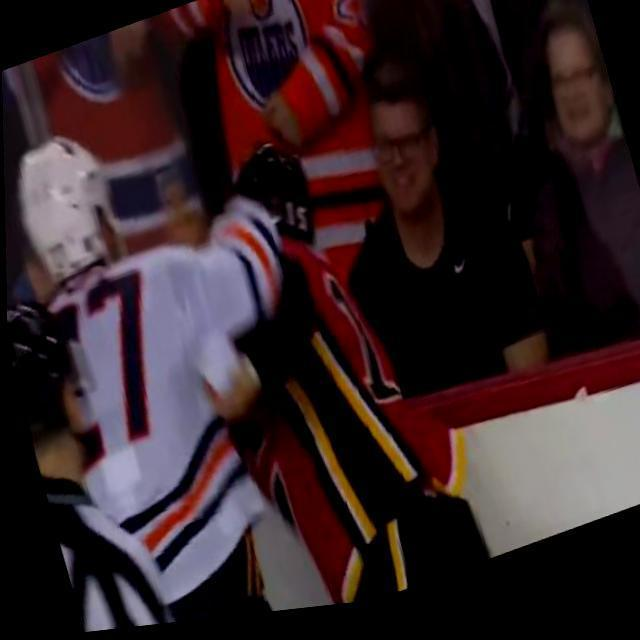fight: (1, 23, 491, 640)
